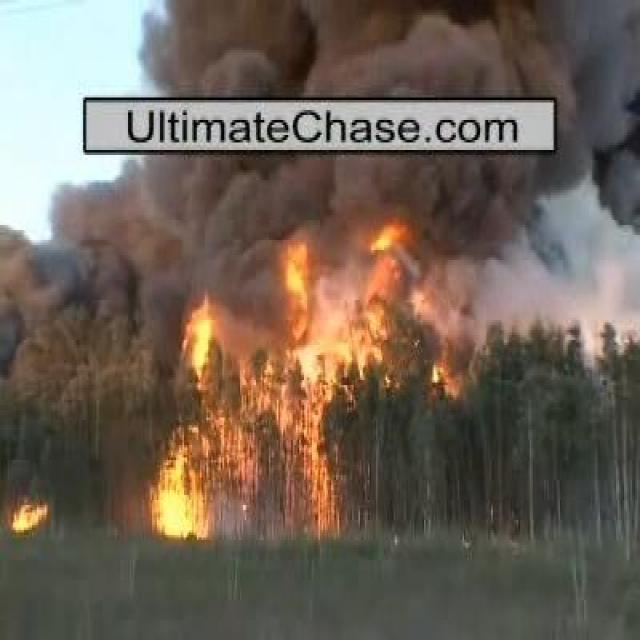fire: (156, 462, 202, 542)
smoke: (42, 152, 567, 309), (153, 7, 517, 93)
